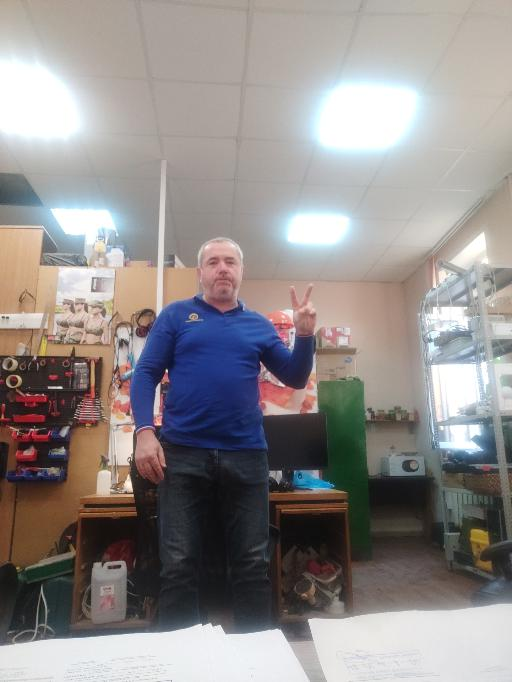no_gesture: (133, 431, 167, 486)
peace: (288, 282, 317, 333)
